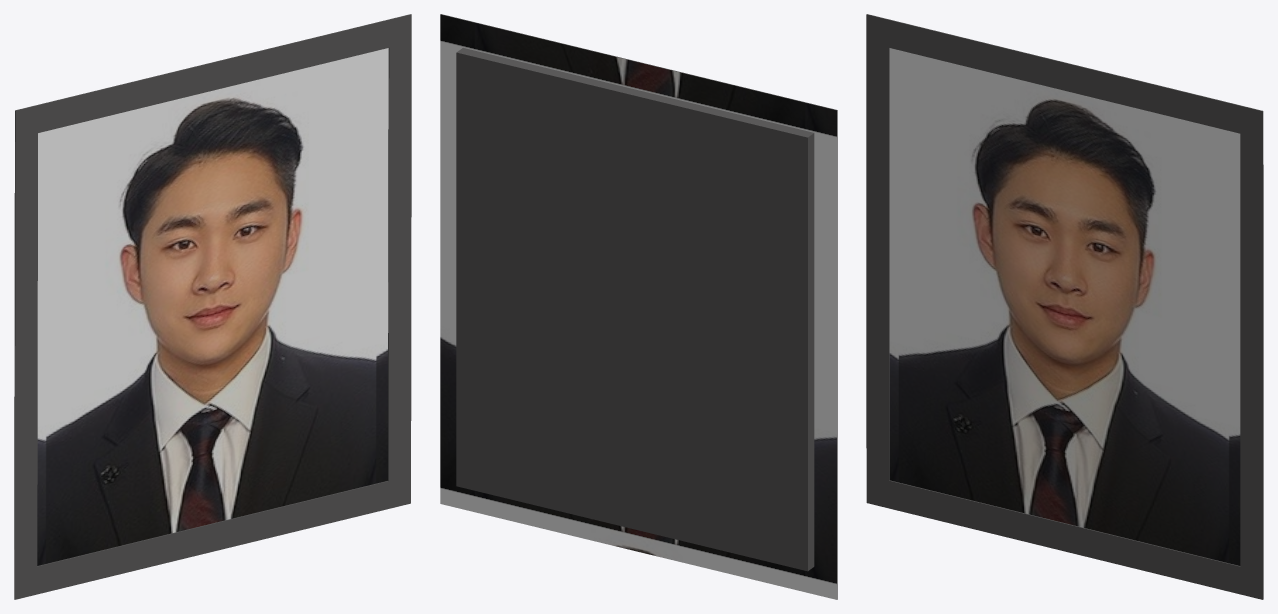
File: eb8d78ed-3e95-40d6-92e8-688cc1fadbe1.glb
3 views of the same model, side by side, from view 1: azimuth 30°, elevation 25°; view 2: azimuth 150°, elevation 25°; view 3: azimuth 330°, elevation 25° (orthographic).
Parts seen in each view (by area): view 1: Cube001; view 2: Cube001; view 3: Cube001.
Part boxes in pixels (x1,y1,x2,y2): Cube001: (14,14,411,599); Cube001: (440,14,837,599); Cube001: (866,14,1263,599).
Size of the model in its own units: 1.7 by 2 by 0.0571.
2 materials, 1 textured.
